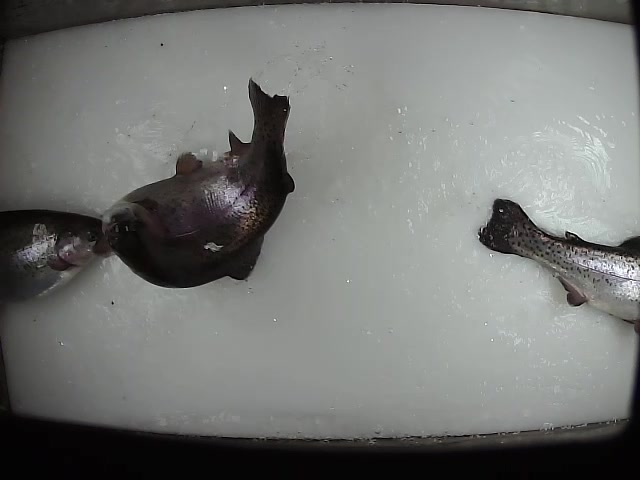fish: (102, 77, 301, 290), (477, 196, 640, 335), (1, 210, 110, 311)
